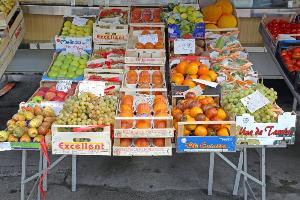apple: (44, 51, 90, 79), (29, 81, 77, 105), (60, 13, 94, 44)
grape: (224, 83, 294, 141), (59, 97, 117, 134), (165, 4, 203, 38), (86, 44, 126, 72), (81, 72, 123, 96), (95, 8, 129, 34)
kiwi: (170, 39, 209, 57)
orange: (169, 58, 221, 92)
tomato: (264, 14, 300, 72)
